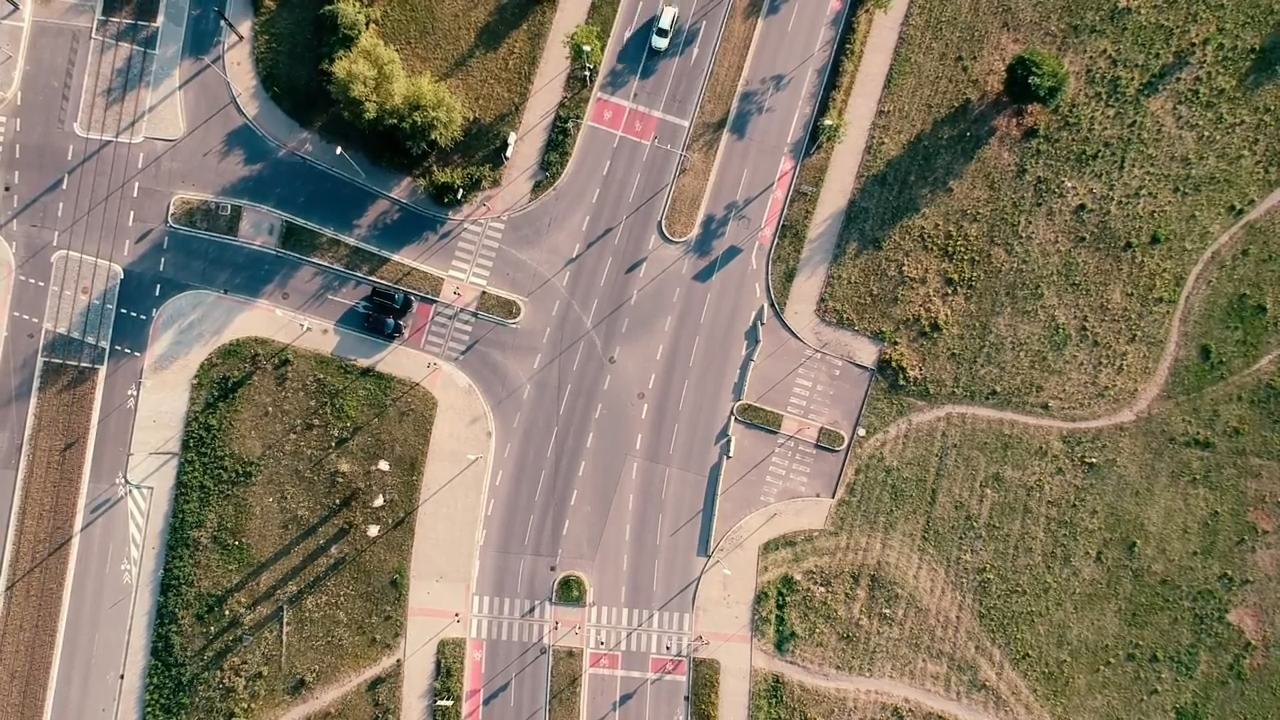car: (649, 3, 679, 51), (367, 308, 409, 340), (372, 285, 415, 312)
